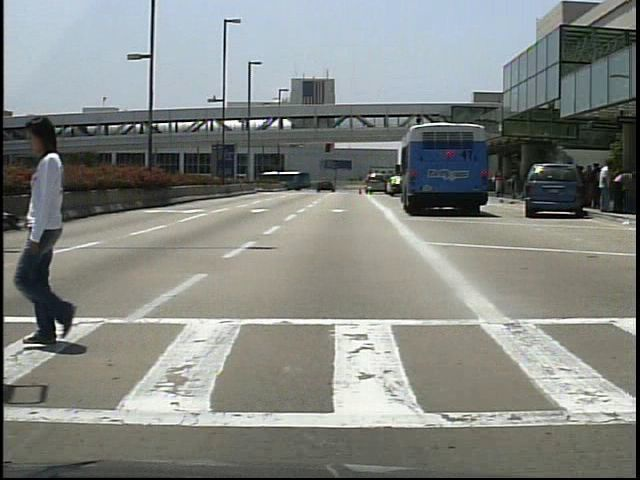person: (13, 114, 107, 355), (598, 159, 618, 212), (588, 161, 605, 215)
